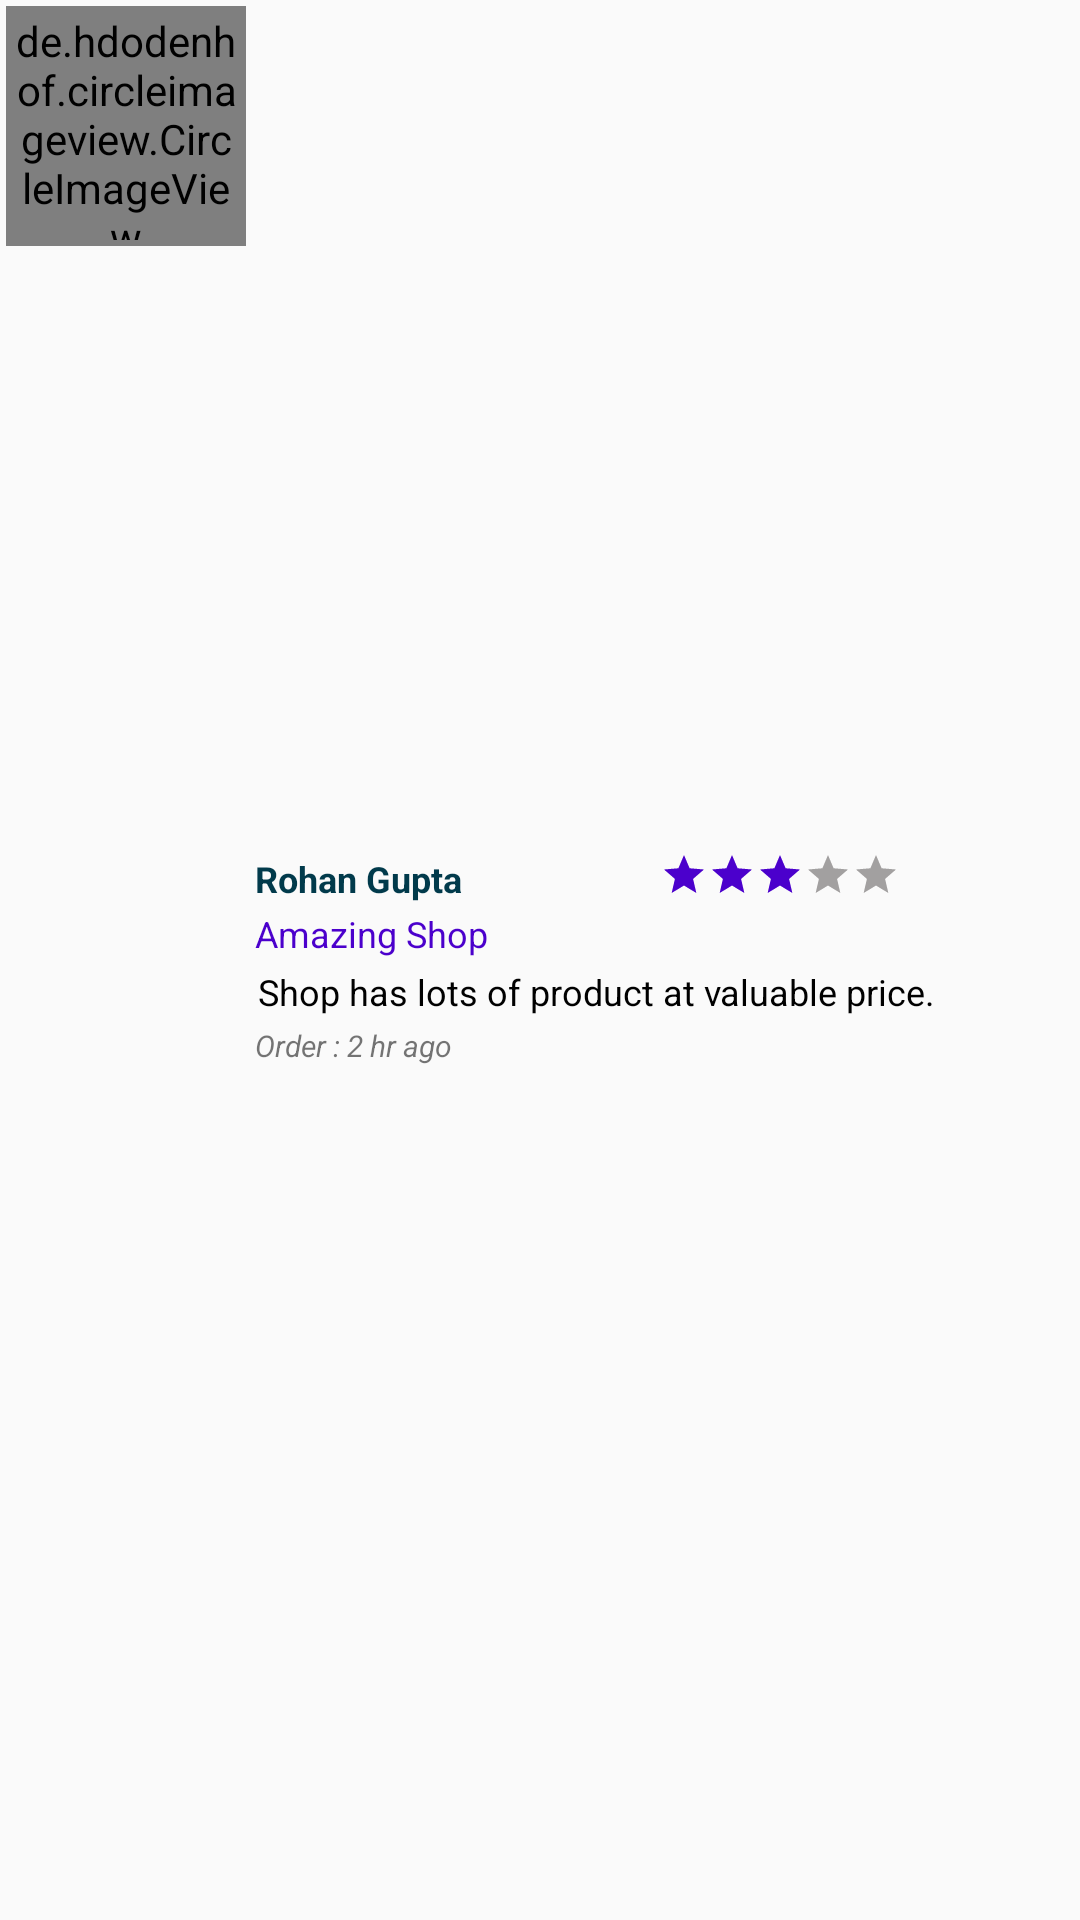

Icon bounding boxes for this 1080*1920 phone screenshot, format [x1=x1, y1=y1, x2=x2, y2=y2]:
star: [x1=664, y1=855, x2=704, y2=893], [x1=712, y1=855, x2=752, y2=893], [x1=760, y1=855, x2=800, y2=893], [x1=808, y1=856, x2=848, y2=893], [x1=856, y1=856, x2=896, y2=893]
